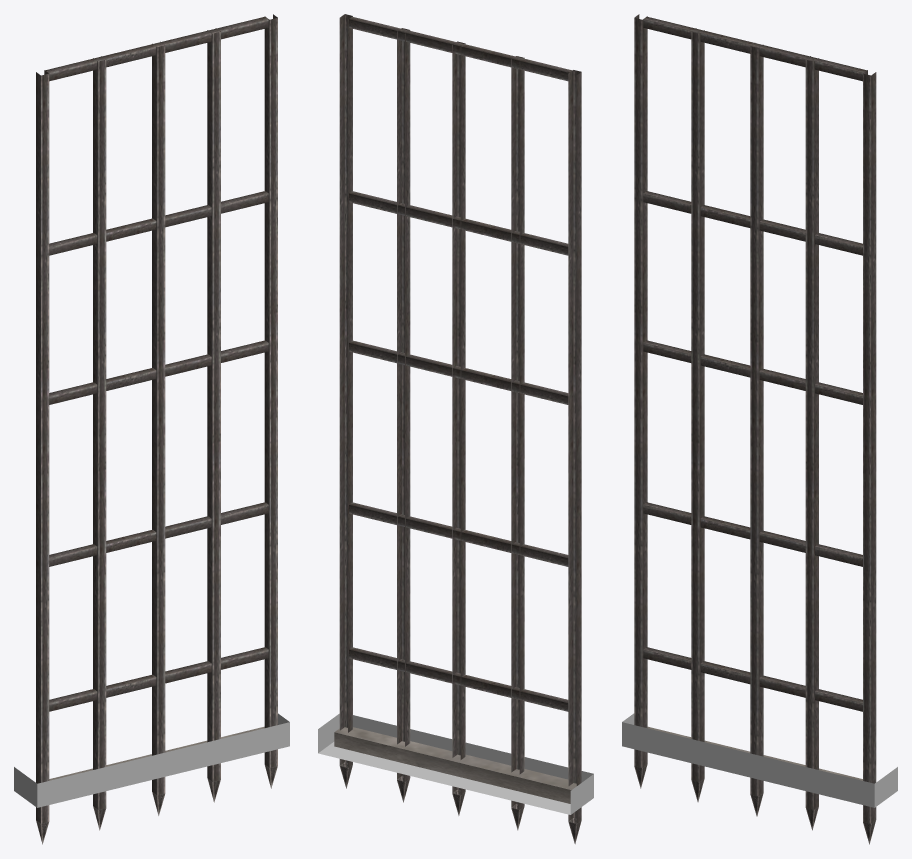
File: ExportLibraryCeilingPeaks.FBX
The picture shows the model from 3 angles, left to right: view 1: azimuth 30°, elevation 25°; view 2: azimuth 150°, elevation 25°; view 3: azimuth 330°, elevation 25°; orthographic projection.
Parts seen in each view (by area): view 1: door_cage_01, door_cage_up; view 2: door_cage_01, door_cage_up; view 3: door_cage_01, door_cage_up.
Boxes of the visible parts, bbox=[...] form: door_cage_01: bbox=[36, 14, 277, 844]; door_cage_up: bbox=[14, 713, 289, 807]; door_cage_01: bbox=[339, 14, 581, 844]; door_cage_up: bbox=[318, 713, 593, 814]; door_cage_01: bbox=[634, 14, 876, 844]; door_cage_up: bbox=[622, 713, 897, 807].
Size of the model in its own units: 63.34 by 10.12 by 185.
